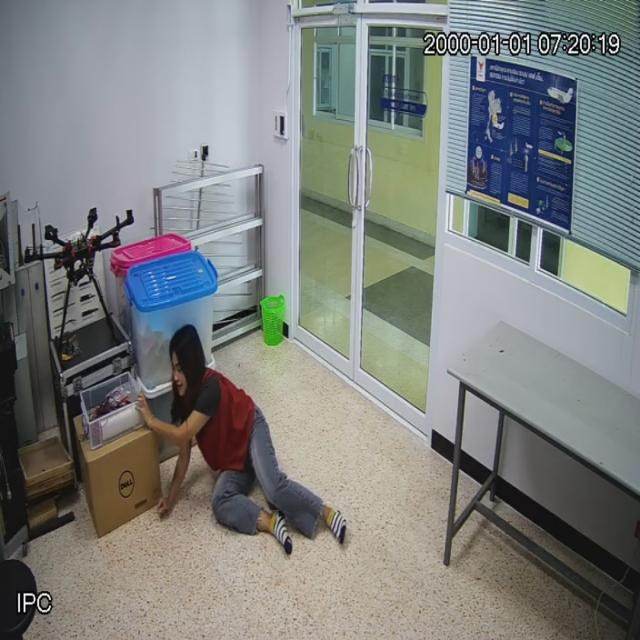fall: (148, 317, 354, 563)
